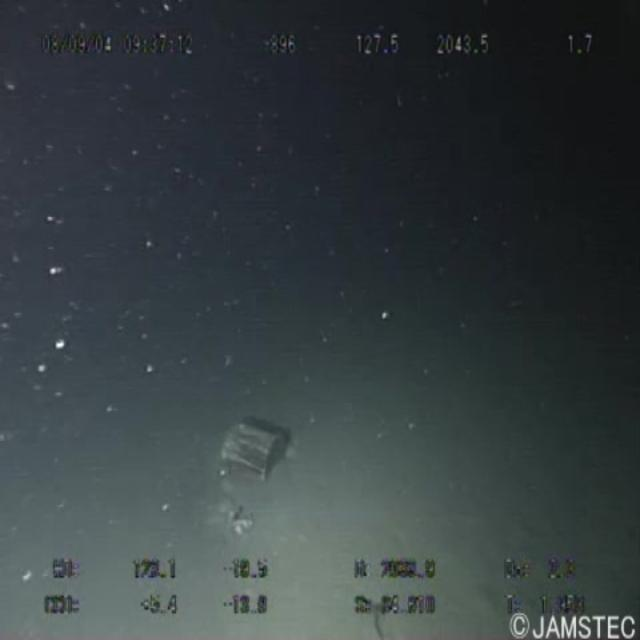Metal: (214, 400, 304, 500)
